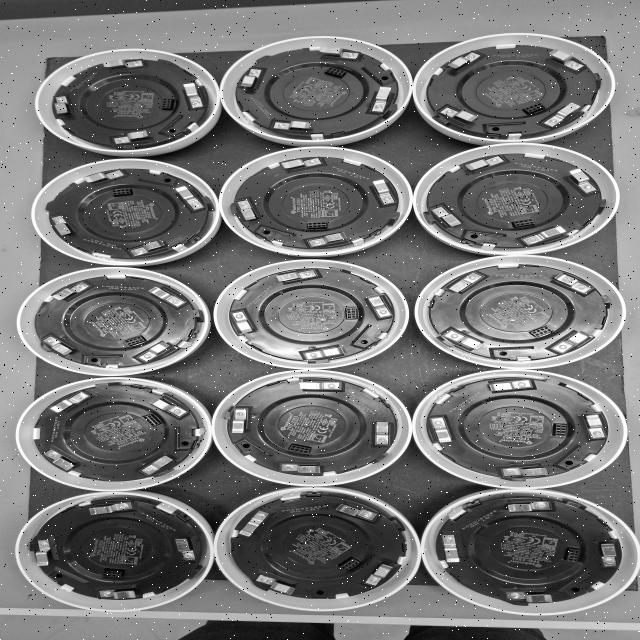yaysiz: (253, 574, 306, 597), (518, 225, 572, 247), (143, 284, 189, 309), (500, 586, 557, 606), (330, 501, 377, 525), (363, 289, 396, 323), (235, 510, 270, 542), (300, 341, 350, 363), (546, 48, 588, 74), (136, 452, 178, 478), (552, 271, 597, 295), (553, 327, 593, 354), (40, 446, 81, 472), (441, 328, 487, 351), (49, 391, 95, 414), (445, 271, 489, 295), (364, 84, 396, 116), (563, 166, 598, 195), (310, 43, 363, 62), (367, 177, 398, 209), (482, 376, 540, 393), (546, 102, 583, 128), (362, 561, 399, 587), (426, 414, 457, 445), (106, 128, 153, 148), (170, 534, 201, 564), (459, 154, 505, 174), (29, 537, 56, 571), (41, 332, 76, 358), (272, 156, 328, 172), (228, 310, 260, 338), (594, 538, 622, 570), (173, 185, 206, 212), (369, 415, 396, 447), (49, 282, 92, 302), (275, 460, 328, 476), (123, 240, 170, 258), (578, 410, 606, 440), (498, 462, 554, 477), (228, 407, 255, 438), (440, 104, 481, 124), (85, 500, 136, 516), (82, 168, 127, 186), (432, 205, 464, 230), (268, 272, 324, 286), (139, 340, 173, 363), (502, 499, 554, 514), (440, 532, 464, 564), (306, 231, 351, 248), (149, 396, 185, 417), (293, 381, 347, 395), (233, 198, 261, 224), (98, 56, 146, 71), (447, 52, 482, 72), (95, 586, 144, 600), (268, 119, 312, 134), (238, 66, 266, 89), (184, 82, 206, 110), (49, 215, 74, 238), (52, 94, 73, 118)
